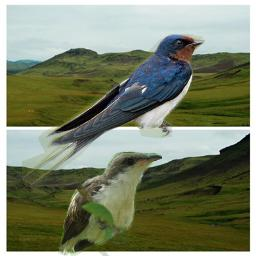Cuckoo: (58, 151, 162, 256)
Swallow: (22, 34, 205, 187)
